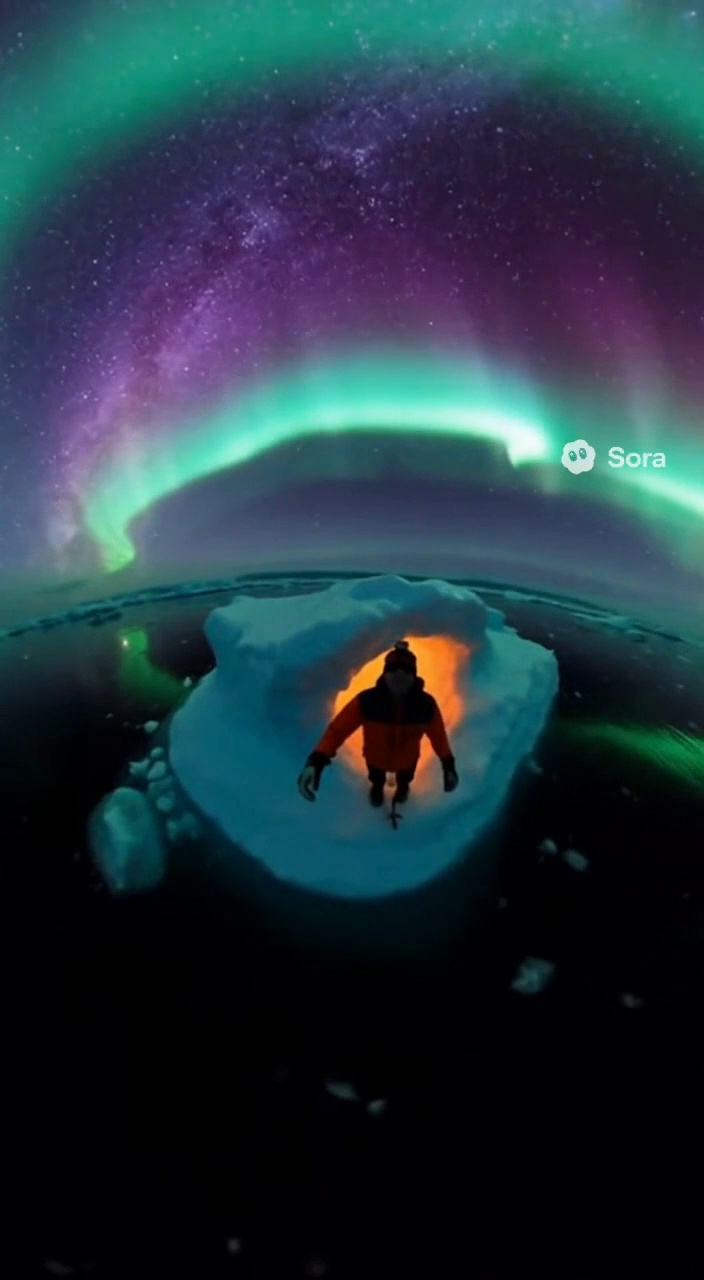watermark: (554, 433, 672, 480)
